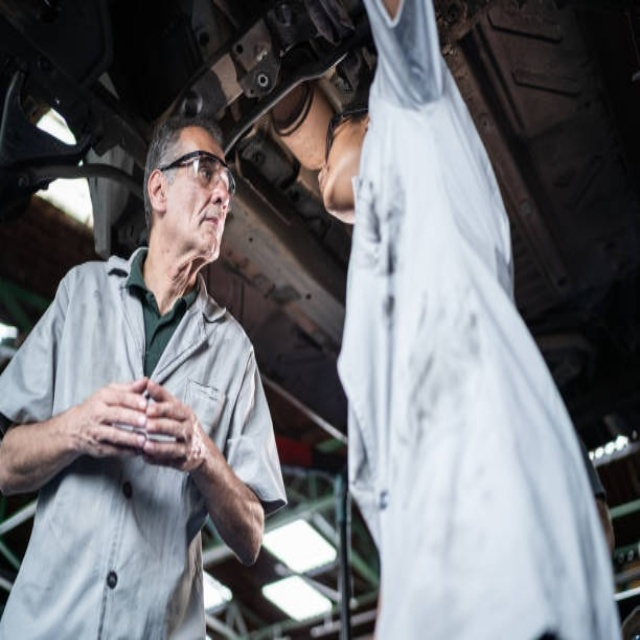Gafas: (155, 150, 238, 197), (326, 106, 368, 167)
Sin_guantes: (70, 372, 150, 461), (148, 372, 208, 475)
Sin_mascara: (192, 205, 228, 248), (315, 162, 342, 199)
